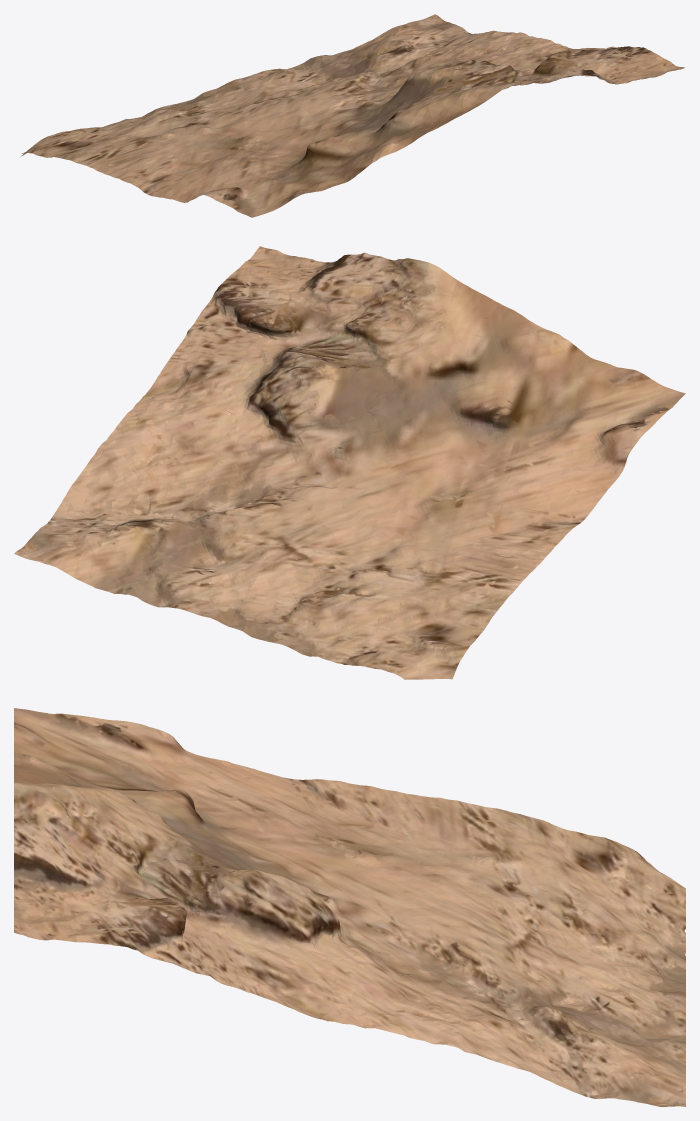
The picture shows the model from 3 angles, top to bottom: view 1: azimuth 30°, elevation 25°; view 2: azimuth 150°, elevation 25°; view 3: azimuth 270°, elevation 25°; orthographic projection. The views are drawn at different scales.
Size of the model in its own units: 2.09 by 0.8585 by 2.09.
Materials: 3 (3 with a texture image).
